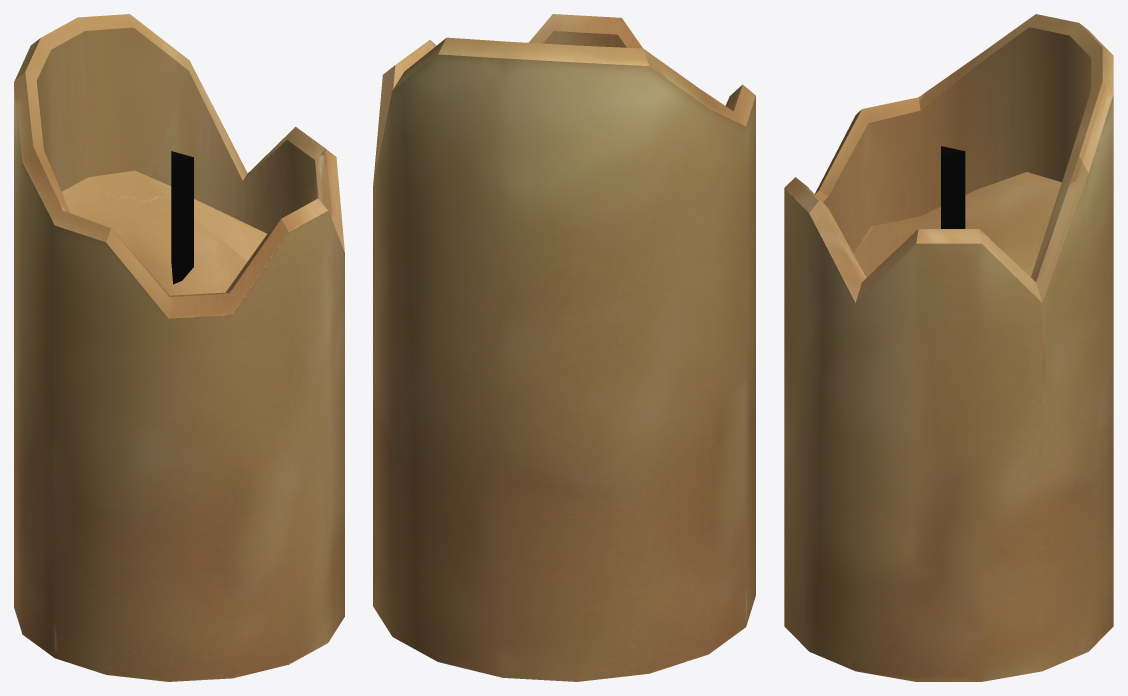
The model's file is kynttila1.fbx.
3 views of the same model, side by side, from view 1: azimuth 30°, elevation 25°; view 2: azimuth 150°, elevation 25°; view 3: azimuth 270°, elevation 25° (orthographic). The views are drawn at different scales.
Visible parts, largest first — view 1: kynttila2; view 2: kynttila2; view 3: kynttila2.
Part boxes in pixels (x1=…): kynttila2: x1=14, y1=14, x2=344, y2=681; kynttila2: x1=373, y1=14, x2=755, y2=681; kynttila2: x1=784, y1=14, x2=1113, y2=681.
Size of the model in its own units: 196 by 363 by 196.
1 material, 1 textured.
